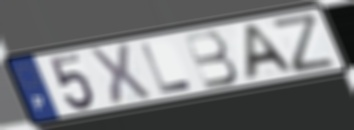5: (46, 51, 95, 111)
A: (242, 22, 299, 83)
B: (180, 29, 241, 91)
L: (137, 41, 196, 95)
X: (86, 42, 155, 108)
Z: (268, 11, 339, 76)
